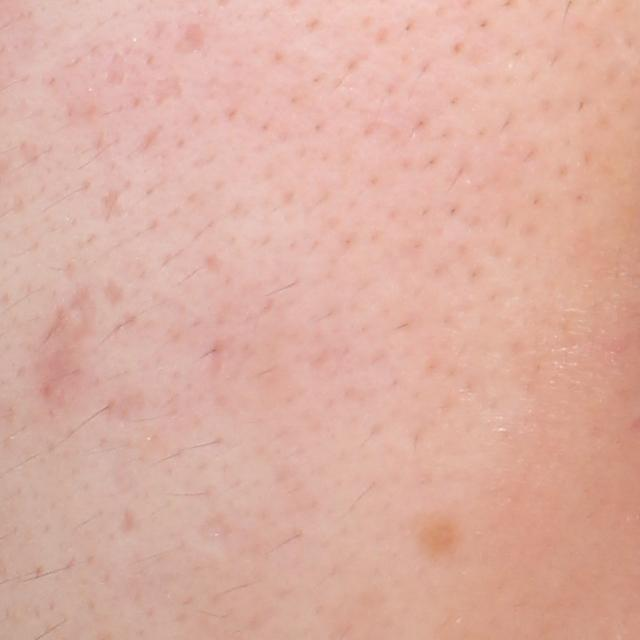atrophic_scar: (32, 288, 97, 402), (103, 381, 151, 421), (172, 23, 212, 58), (149, 73, 185, 108), (98, 179, 126, 224), (195, 512, 231, 542), (115, 504, 138, 535), (105, 276, 127, 306)
